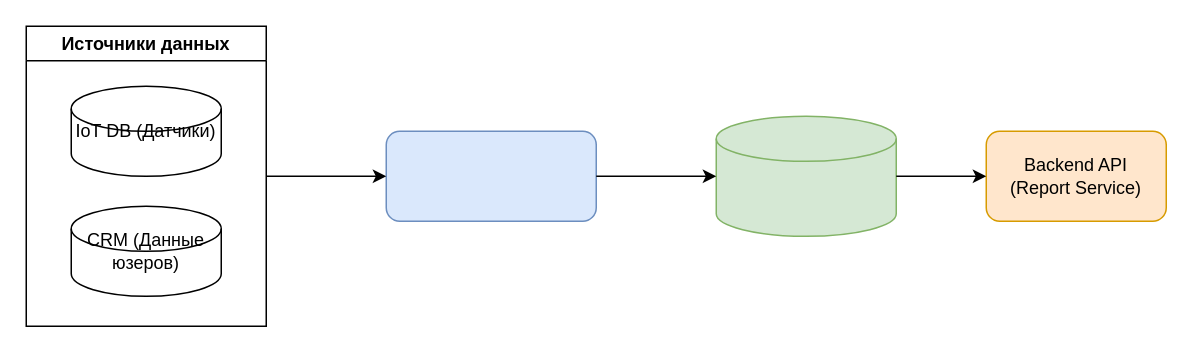
Image size: 1193x353. Some labels were removed from this diagram. Each missing label, with the box of its shape:
Apache Airflow (ETL Orchestrator): (385, 130, 596, 221)
OLAP DB (ClickHouse) Витрины данных: (715, 115, 896, 236)
